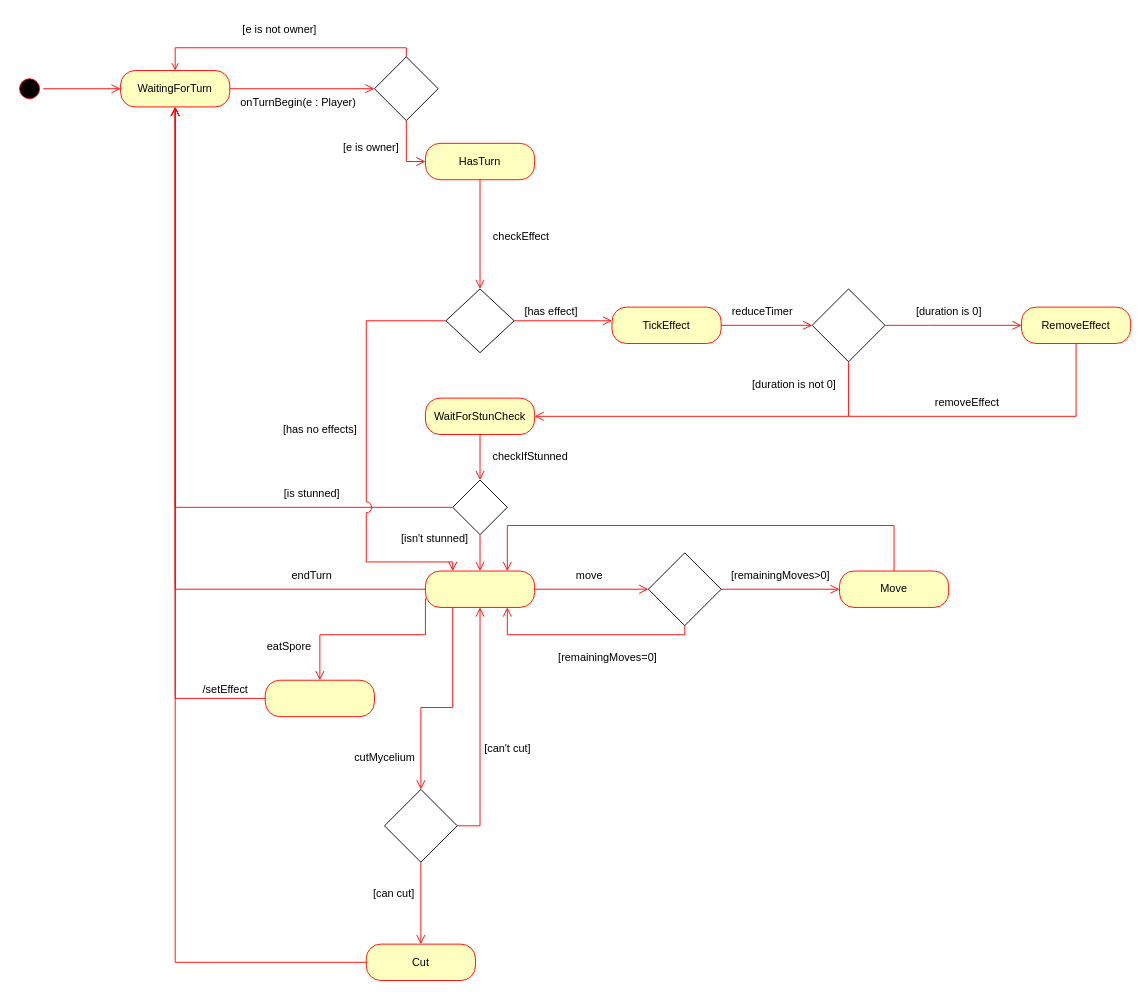
Some shapes in this 1147 by 996 pixel diagram are drawn without their labels. The shapes that lost their labels are listed below. From the top down, each one's centre as x and y in pixels, then its label:
point (480, 588): WaitForInput
point (319, 698): Eat
